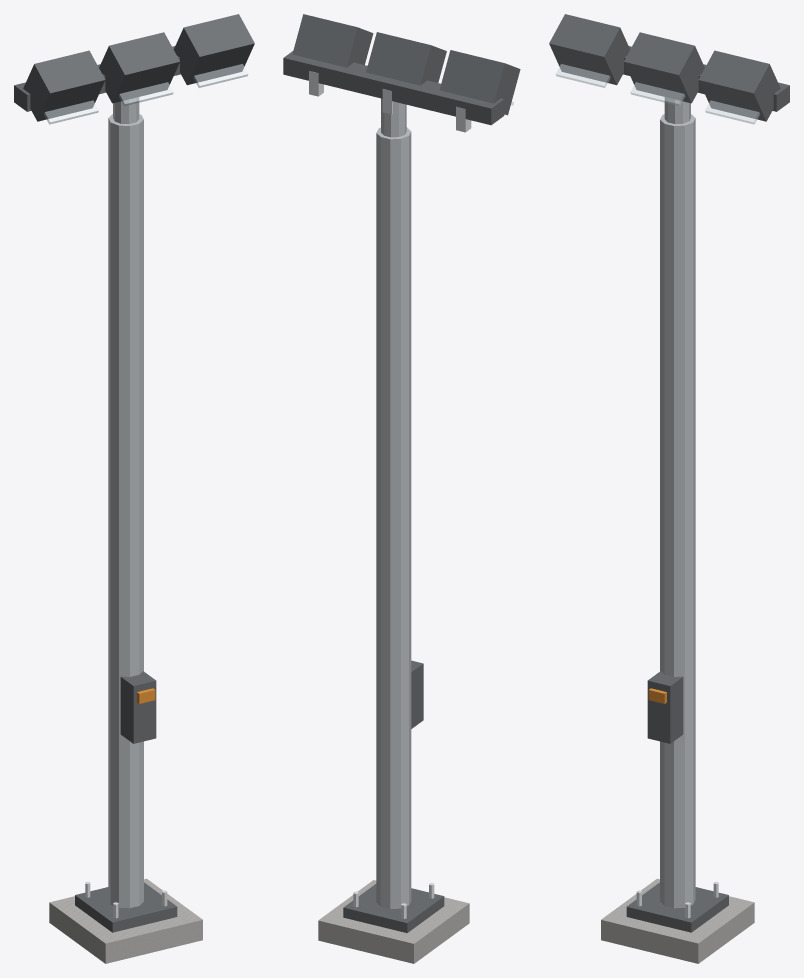
Rendered from tool-hire-depot-and-plant-yard-tool-hire-depot-and-pla-823e8afb__35295.glb.
The picture shows the model from 3 angles, left to right: view 1: azimuth 30°, elevation 25°; view 2: azimuth 150°, elevation 25°; view 3: azimuth 330°, elevation 25°; orthographic projection.
Visible parts, largest first — view 1: tool-hire-depot-and-plant-yard-yard-floodlight-mast; view 2: tool-hire-depot-and-plant-yard-yard-floodlight-mast; view 3: tool-hire-depot-and-plant-yard-yard-floodlight-mast.
Part boxes in pixels (x1,y1,x2,y2): tool-hire-depot-and-plant-yard-yard-floodlight-mast: (14,14,254,963); tool-hire-depot-and-plant-yard-yard-floodlight-mast: (283,14,520,963); tool-hire-depot-and-plant-yard-yard-floodlight-mast: (549,14,789,963).
Bounding box in the file's own units: 1.3 × 5.29 × 0.6.
Materials: 6 (1 with a texture image).
